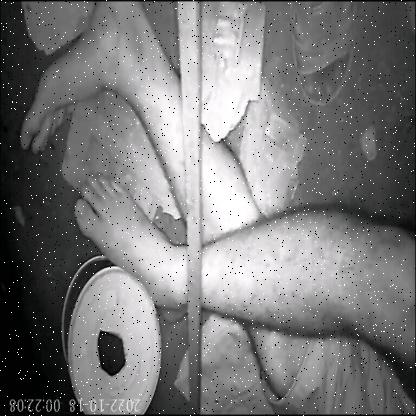leg: (68, 161, 416, 354), (12, 0, 235, 232)
